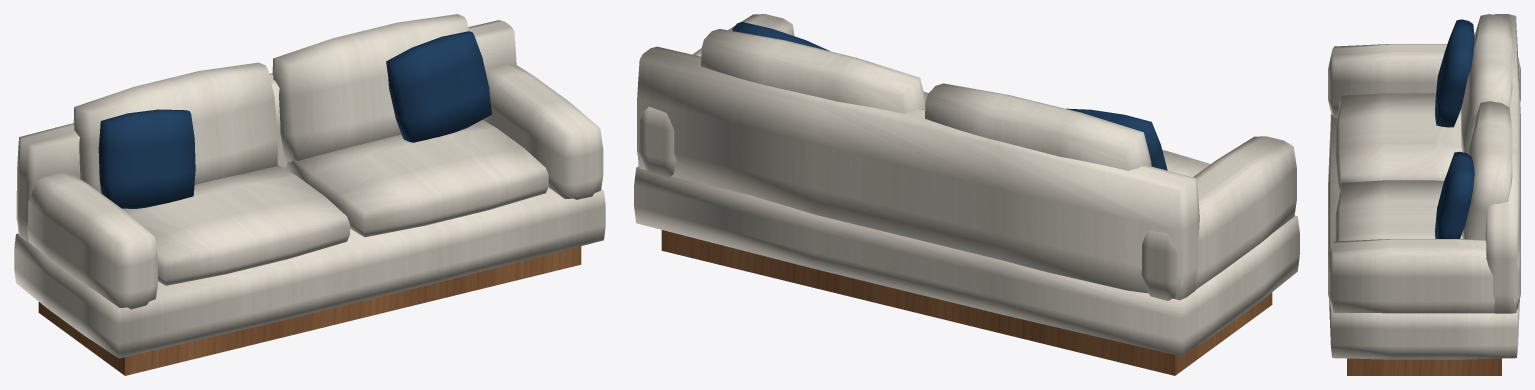
File: sofa.glb
3 views of the same model, side by side, from view 1: azimuth 30°, elevation 25°; view 2: azimuth 150°, elevation 25°; view 3: azimuth 270°, elevation 25° (orthographic). The views are drawn at different scales.
Visible parts, largest first — view 1: resort; view 2: resort; view 3: resort.
Part boxes in pixels (x1,y1,x2,y2): resort: (14, 14, 605, 375); resort: (634, 14, 1299, 375); resort: (1328, 14, 1520, 375).
Bounding box in the file's own units: 2.7 × 1.07 × 1.02.
3 materials, 2 textured.
